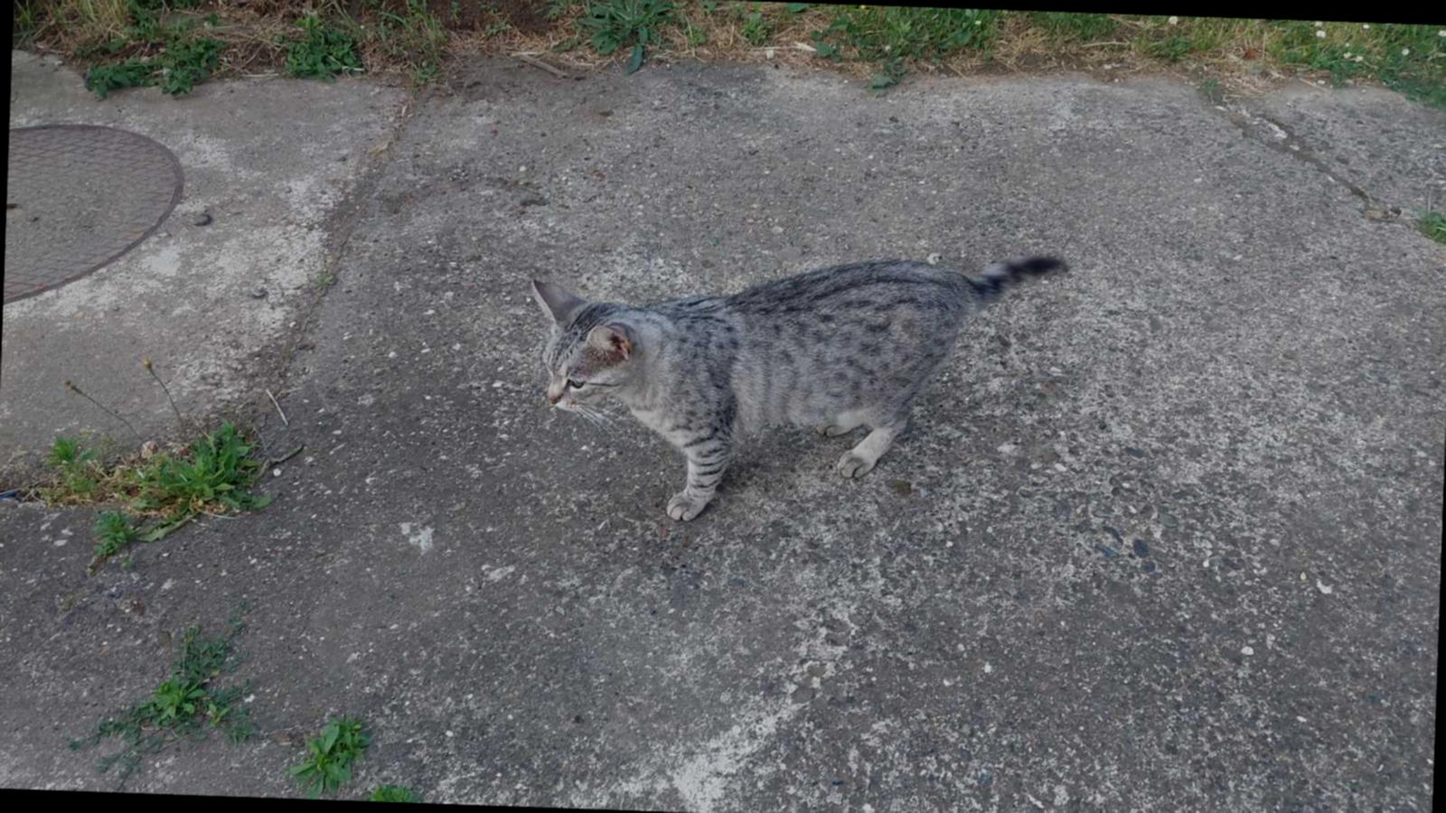macka: (520, 232, 1074, 538)
